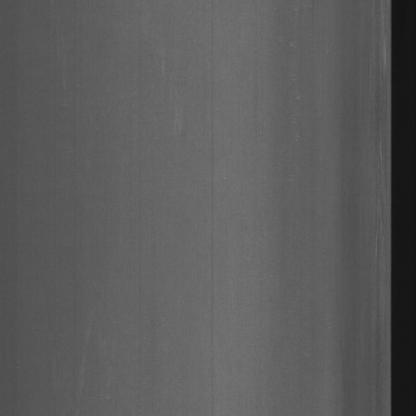silk_spot: (371, 24, 388, 327)
